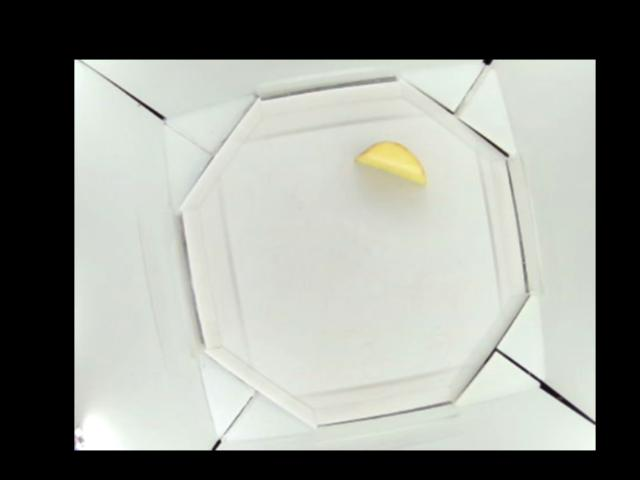Potato: (355, 140, 425, 184)
